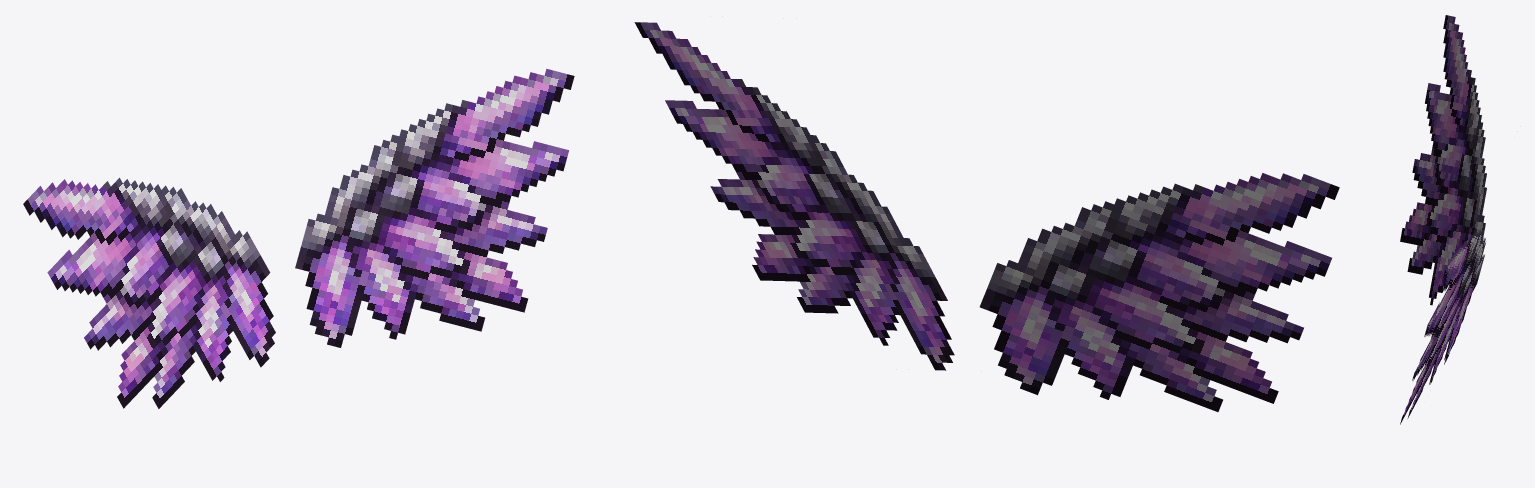
Rendered from wings1.gltf.
3 renders of one model, left to right at view 1: azimuth 30°, elevation 25°; view 2: azimuth 150°, elevation 25°; view 3: azimuth 270°, elevation 25°, orthographic. The views are drawn at different scales.
Visible parts, largest first — view 1: tr, tl; view 2: tl, tr; view 3: tl, tr.
Boxes of the visible parts, x1,y1,x2,y2 form: tr: [295, 68, 574, 347]; tl: [23, 177, 275, 408]; tl: [979, 173, 1339, 411]; tr: [634, 22, 954, 370]; tl: [1400, 15, 1486, 305]; tr: [1400, 230, 1486, 424].
Size of the model in its own units: 3.28 by 1.85 by 0.7061.
Materials: 1 (1 with a texture image).
